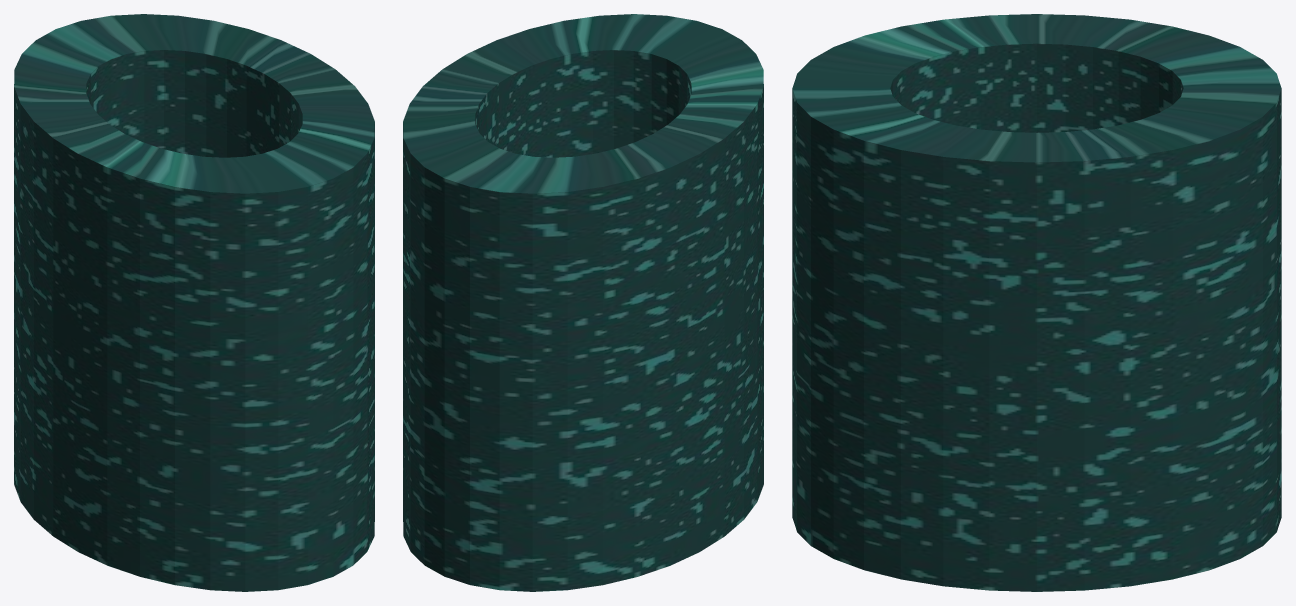
3 renders of one model, left to right at view 1: azimuth 30°, elevation 25°; view 2: azimuth 150°, elevation 25°; view 3: azimuth 270°, elevation 25°, orthographic. The views are drawn at different scales.
Visible parts, largest first — view 1: geometry_0; view 2: geometry_0; view 3: geometry_0.
Boxes of the visible parts, x1=… form: geometry_0: x1=14, y1=14, x2=374, y2=591; geometry_0: x1=403, y1=14, x2=763, y2=591; geometry_0: x1=792, y1=14, x2=1281, y2=591.
Size of the model in its own units: 1.83 by 2.47 by 2.54.
1 material, 1 textured.
